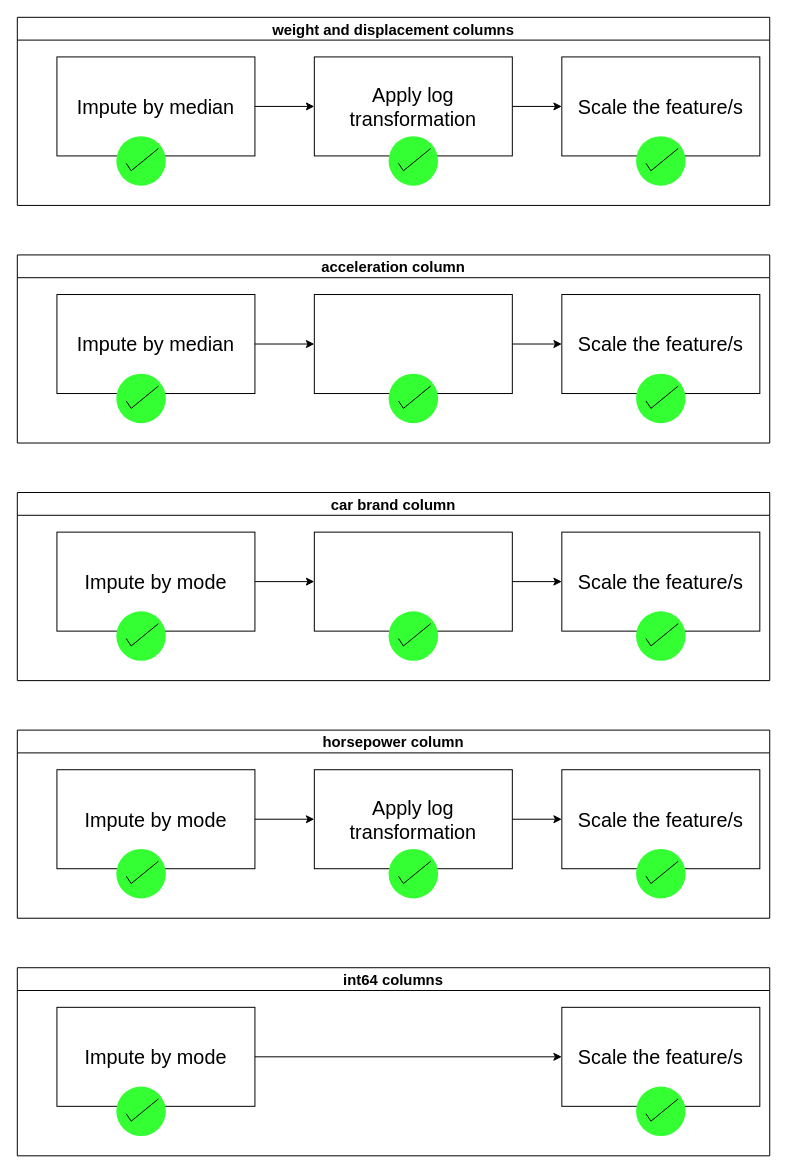
The diagram is 787 pixels wide and 1173 high, and some of its shapes have lost their labels. The centre of each missing label's shape, as x and y in pixels:
"Apply squared root transformation" goes at (412,344).
"Encode feature/s using FrequencyEncoder" goes at (412,581).
